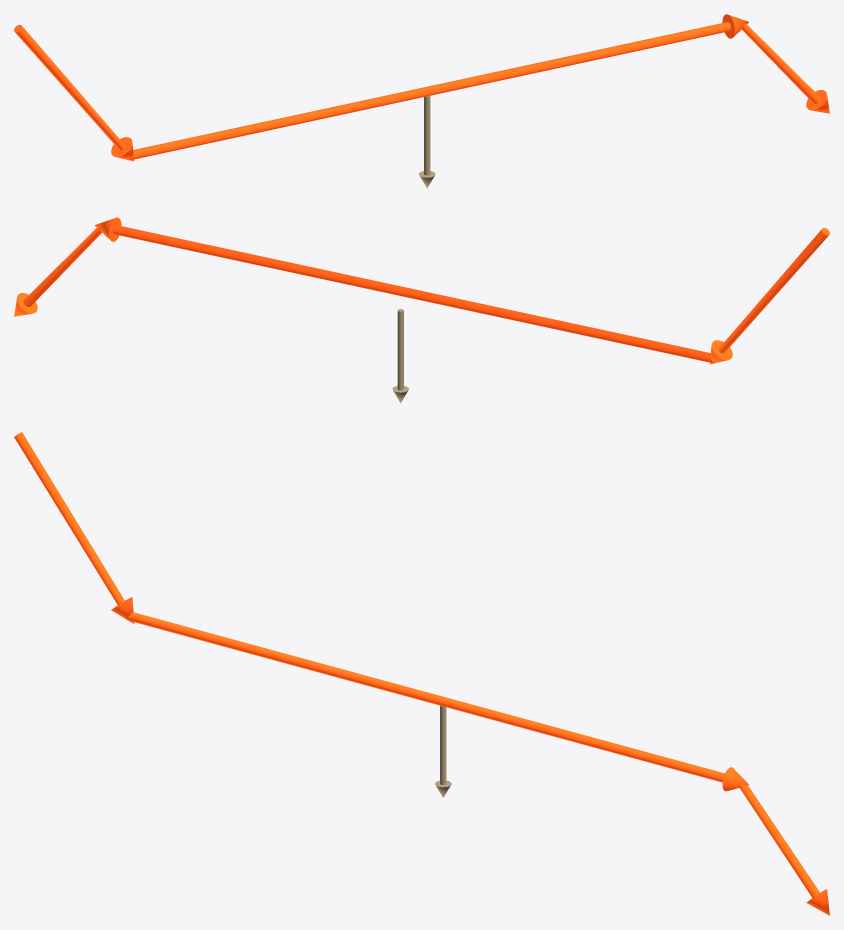
Rendered from trommel_screen_flow.glb.
The picture shows the model from 3 angles, top to bottom: view 1: azimuth 30°, elevation 25°; view 2: azimuth 150°, elevation 25°; view 3: azimuth 330°, elevation 25°; orthographic projection.
Parts seen in each view (by area): view 1: feed, undersize; view 2: feed, undersize; view 3: feed.
Boxes of the visible parts, box(x1,y1,x2,y2) form: feed: box(14, 14, 829, 161); undersize: box(419, 96, 435, 188); feed: box(14, 217, 829, 364); undersize: box(392, 309, 408, 403); feed: box(14, 432, 829, 915).
Size of the model in its own units: 2.93 by 0.9821 by 0.115.
